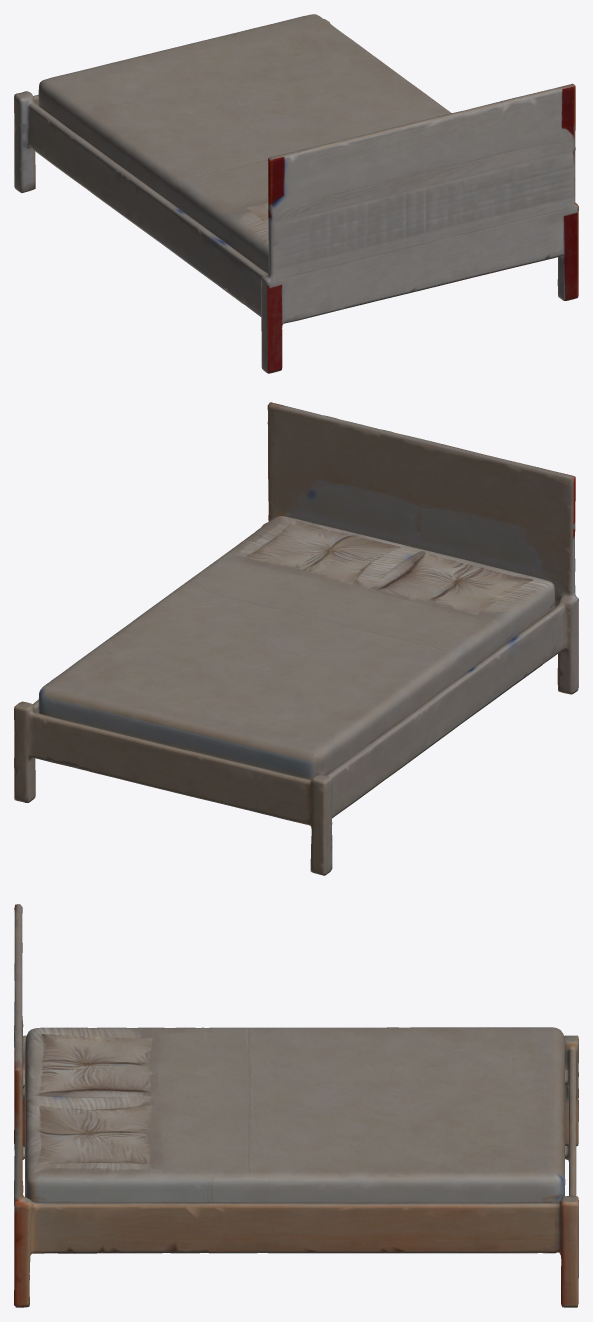
Rendered from 3d_normal_single_bed__1004152909_refine.fbx.
3 views of the same model, one above another, from view 1: azimuth 30°, elevation 25°; view 2: azimuth 150°, elevation 25°; view 3: azimuth 270°, elevation 25° (orthographic). The views are drawn at different scales.
Parts seen in each view (by area): view 1: file1; view 2: file1; view 3: file1.
Part boxes in pixels (<box>): file1: <box>14,14,578,373</box>; file1: <box>14,402,578,875</box>; file1: <box>14,904,578,1307</box>.
Size of the model in its own units: 142 by 92.91 by 200.
1 material, 1 textured.
